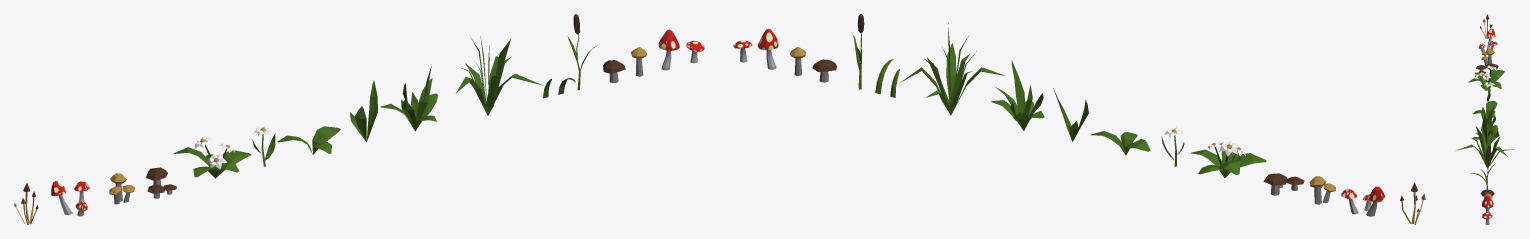
Rendered from Grass.fbx.
3 views of the same model, side by side, from view 1: azimuth 30°, elevation 25°; view 2: azimuth 150°, elevation 25°; view 3: azimuth 270°, elevation 25° (orthographic). The views are drawn at different scales.
Parts seen in each view (by area): view 1: Grass 4, Flower 1, Grass 3, Grass 2, Grass 1, Mushroom 4, Mushroom 2, Mushroom 3, Mushroom 8, Flower 2; view 2: Grass 4, Flower 1, Grass 3, Mushroom 4, Grass 1, Mushroom 2, Mushroom 8, Mushroom 3, Grass 2, Leaf 3, Mushroom 5; view 3: Grass 4, Flower 1, Grass 3, Mushroom 4, Grass 1, Mushroom 3, Grass 2, Mushroom 8, Mushroom 2, Leaf 3, Mushroom 1, Flower 2 (+2 smaller).
Boxes of the visible parts, left/top/right/bottom form: Grass 4: left=456, top=36, right=543, bottom=115; Flower 1: left=173, top=136, right=250, bottom=178; Grass 3: left=380, top=64, right=437, bottom=131; Grass 2: left=350, top=80, right=377, bottom=142; Grass 1: left=277, top=126, right=340, bottom=154; Mushroom 4: left=51, top=181, right=89, bottom=216; Mushroom 2: left=146, top=167, right=176, bottom=198; Mushroom 3: left=109, top=173, right=134, bottom=204; Mushroom 8: left=658, top=29, right=679, bottom=70; Flower 2: left=252, top=126, right=275, bottom=166; Grass 4: left=900, top=23, right=1005, bottom=115; Flower 1: left=1190, top=141, right=1266, bottom=177; Grass 3: left=991, top=60, right=1044, bottom=130; Mushroom 4: left=1341, top=186, right=1385, bottom=216; Grass 1: left=1090, top=131, right=1150, bottom=155; Mushroom 2: left=1263, top=173, right=1304, bottom=195; Mushroom 8: left=758, top=28, right=779, bottom=69; Mushroom 3: left=1309, top=176, right=1335, bottom=204; Grass 2: left=1053, top=88, right=1088, bottom=141; Leaf 3: left=852, top=14, right=864, bottom=89; Mushroom 5: left=812, top=59, right=836, bottom=82; Grass 4: left=1455, top=115, right=1514, bottom=168; Flower 1: left=1468, top=65, right=1504, bottom=90; Grass 3: left=1472, top=114, right=1499, bottom=145; Mushroom 4: left=1479, top=28, right=1497, bottom=52; Grass 1: left=1473, top=101, right=1497, bottom=117; Mushroom 3: left=1481, top=49, right=1494, bottom=65; Grass 2: left=1481, top=106, right=1495, bottom=129; Mushroom 8: left=1482, top=195, right=1493, bottom=212; Mushroom 2: left=1476, top=63, right=1498, bottom=73; Leaf 3: left=1481, top=148, right=1495, bottom=189; Mushroom 1: left=1480, top=14, right=1492, bottom=38; Flower 2: left=1483, top=82, right=1494, bottom=101.
Bounding box in the file's own units: 1563 × 189 × 214.
